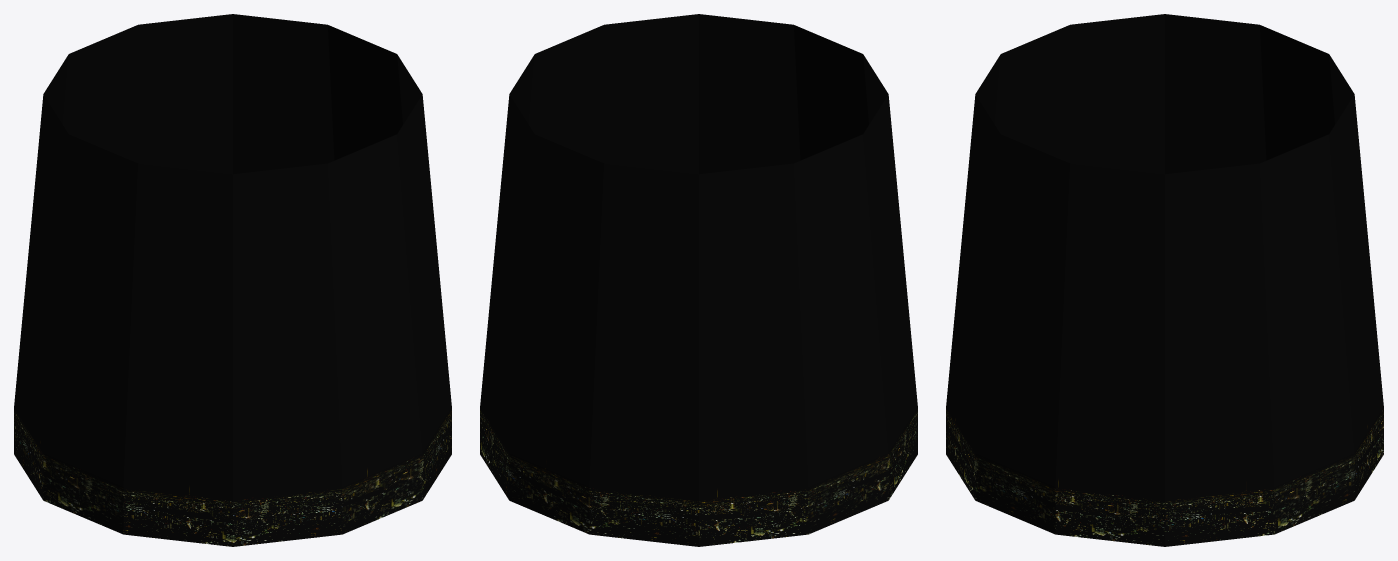
The picture shows the model from 3 angles, left to right: view 1: azimuth 30°, elevation 25°; view 2: azimuth 150°, elevation 25°; view 3: azimuth 270°, elevation 25°; orthographic projection.
Visible parts, largest first — view 1: [decal3]sky02.049; view 2: [decal3]sky02.049; view 3: [decal3]sky02.049.
Part boxes in pixels (x1=…): [decal3]sky02.049: x1=14, y1=14, x2=451, y2=546; [decal3]sky02.049: x1=480, y1=14, x2=917, y2=546; [decal3]sky02.049: x1=946, y1=14, x2=1383, y2=546.
Bounding box in the file's own units: 746 × 735 × 746.
64 materials, 45 textured.
